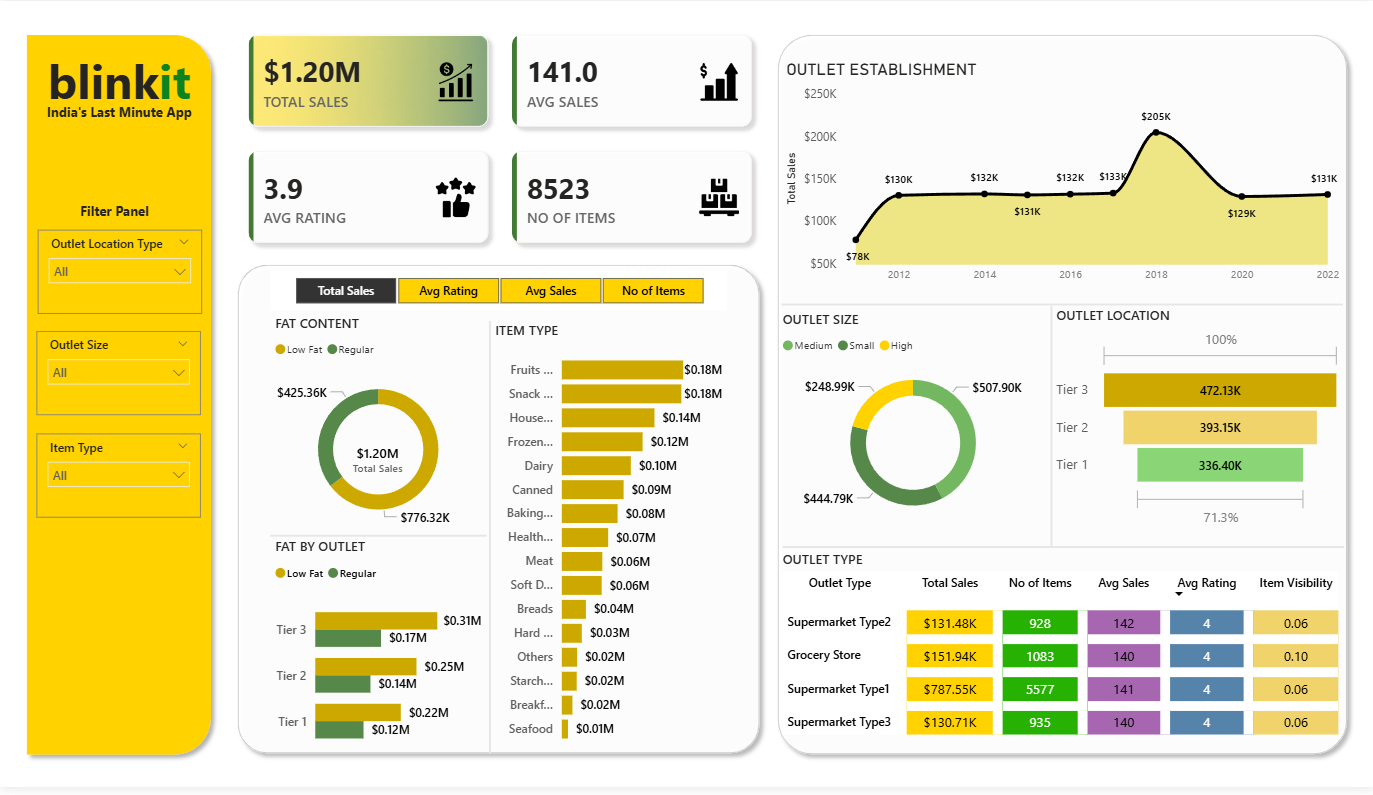

This screenshot's page, from the dashboard's own definition file:
{"tool":"powerbi","page":{"name":"Page 1","canvas":[1400,800],"ordinal":0},"visuals":[{"type":"shape","box":[19.5,25.5,205.6,750.4],"z":0},{"type":"textbox","box":[28.5,43.5,189.1,81],"z":1000},{"type":"textbox","box":[28.5,99.1,189.1,81],"z":2000},{"type":"cardVisual","fields":{"Data":["Blinkit_data.Total Sales","Blinkit_data.Avg Sales","Blinkit_data.Avg Rating","Blinkit_data.No of Items"]},"box":[225.1,4.5,570.3,270.2],"z":3000},{"type":"shape","box":[233.8,260,548.8,515],"z":4000},{"type":"donutChart","title":"FAT CONTENT","fields":{"Y":["Blinkit_data.Total Sales"],"Category":["Blinkit_data.Item_Fat_Content"]},"box":[275.7,318.6,220,231.4],"z":5000},{"type":"slicer","fields":{"Values":["Metrics.Metrics"]},"box":[276.2,275,465,40],"z":6000},{"type":"cardVisual","fields":{"Data":["Blinkit_data.Total Sales"]},"box":[327.1,432.9,117.1,68.6],"z":7000},{"type":"clusteredBarChart","title":"FAT BY OUTLET","fields":{"Y":["Blinkit_data.Total Sales"],"Category":["Blinkit_data.Outlet Location Type"],"Series":["Blinkit_data.Item_Fat_Content"]},"box":[275.7,545.7,220,230],"z":8000},{"type":"shape","box":[275.7,517.1,220,52.9],"z":9000},{"type":"shape","box":[443.8,325,111.2,440],"z":10000},{"type":"barChart","title":"ITEM TYPE","fields":{"Y":["Blinkit_data.Total Sales"],"Category":["Blinkit_data.Item Type"]},"box":[500,325,241.2,440],"z":11000},{"type":"shape","box":[782.9,25.7,597.1,750],"z":12000},{"type":"lineChart","title":"OUTLET ESTABLISHMENT","fields":{"Category":["Blinkit_data.Outlet Establishment Year"],"Y":["Blinkit_data.Total Sales"]},"box":[795.7,60,572.9,235.7],"z":13000},{"type":"shape","box":[795.7,282.9,571.4,52.9],"z":14000},{"type":"donutChart","title":"OUTLET SIZE","fields":{"Y":["Blinkit_data.Total Sales"],"Category":["Blinkit_data.Outlet Size"]},"box":[792.9,314.3,275.7,225.7],"z":15000},{"type":"shape","box":[1048.6,310,45.7,244.3],"z":16000},{"type":"funnel","title":"OUTLET LOCATION","fields":{"Y":["Sum(Blinkit_data.Sales)"],"Category":["Blinkit_data.Outlet Location Type"]},"box":[1071.4,310,300,230],"z":17000},{"type":"shape","box":[797.1,528.6,571.4,52.9],"z":18000},{"type":"pivotTable","title":"OUTLET TYPE","fields":{"Rows":["Blinkit_data.Outlet Type"],"Values":["Blinkit_data.Total Sales","Blinkit_data.No of Items","Blinkit_data.Avg Sales","Blinkit_data.Avg Rating","Avg(Blinkit_data.Item Visibility)"]},"box":[792.9,558.6,575.7,202.9],"z":19000},{"type":"slicer","fields":{"Values":["Blinkit_data.Outlet Location Type"]},"box":[40,232.9,167.1,85.7],"z":20000},{"type":"slicer","fields":{"Values":["Blinkit_data.Outlet Size"]},"box":[38.6,335.7,167.1,85.7],"z":21000},{"type":"slicer","fields":{"Values":["Blinkit_data.Item Type"]},"box":[38.6,440,167.1,85.7],"z":22000},{"type":"textbox","box":[77.5,200,92.5,32.5],"z":23000}]}

Visuals, with their boxes in screenshot pixels (x1, y1, x2, y2), scaled from the page's 1400x800 canvas onto the 1373x795 screenshot:
shape: BBox(19, 25, 221, 771)
textbox: BBox(28, 43, 213, 124)
textbox: BBox(28, 98, 213, 179)
cardVisual - Blinkit_data.Total Sales x Blinkit_data.Avg Sales: BBox(221, 4, 780, 273)
shape: BBox(229, 258, 768, 770)
"FAT CONTENT" donutChart: BBox(270, 317, 486, 547)
slicer - Metrics.Metrics: BBox(271, 273, 727, 313)
cardVisual - Blinkit_data.Total Sales: BBox(321, 430, 436, 498)
"FAT BY OUTLET" clusteredBarChart: BBox(270, 542, 486, 771)
shape: BBox(270, 514, 486, 566)
shape: BBox(435, 323, 544, 760)
"ITEM TYPE" barChart: BBox(490, 323, 727, 760)
shape: BBox(768, 26, 1353, 771)
"OUTLET ESTABLISHMENT" lineChart: BBox(780, 60, 1342, 294)
shape: BBox(780, 281, 1341, 334)
"OUTLET SIZE" donutChart: BBox(778, 312, 1048, 537)
shape: BBox(1028, 308, 1073, 551)
"OUTLET LOCATION" funnel: BBox(1051, 308, 1345, 537)
shape: BBox(782, 525, 1342, 578)
"OUTLET TYPE" pivotTable: BBox(778, 555, 1342, 757)
slicer - Blinkit_data.Outlet Location Type: BBox(39, 231, 203, 317)
slicer - Blinkit_data.Outlet Size: BBox(38, 334, 202, 419)
slicer - Blinkit_data.Item Type: BBox(38, 437, 202, 522)
textbox: BBox(76, 199, 167, 231)
